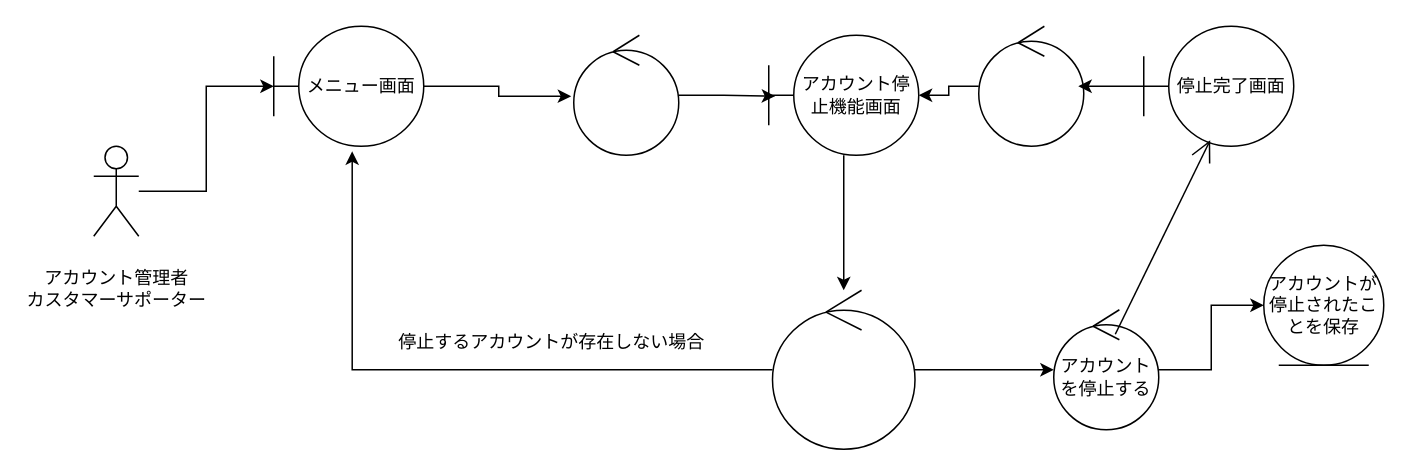
Some shapes in this 1410 by 476 pixel diagram are drawn without their labels. The shapes that lost their labels are listed below. From the top down, each one's centre as x and y in pixels, then its label:
At point (625, 94): "アカウント停止機能を選択".
At point (1030, 85): "元の画面に戻るを選択".
At point (843, 369): "停止するアカウントを選択し、停止ボタンを押す".
